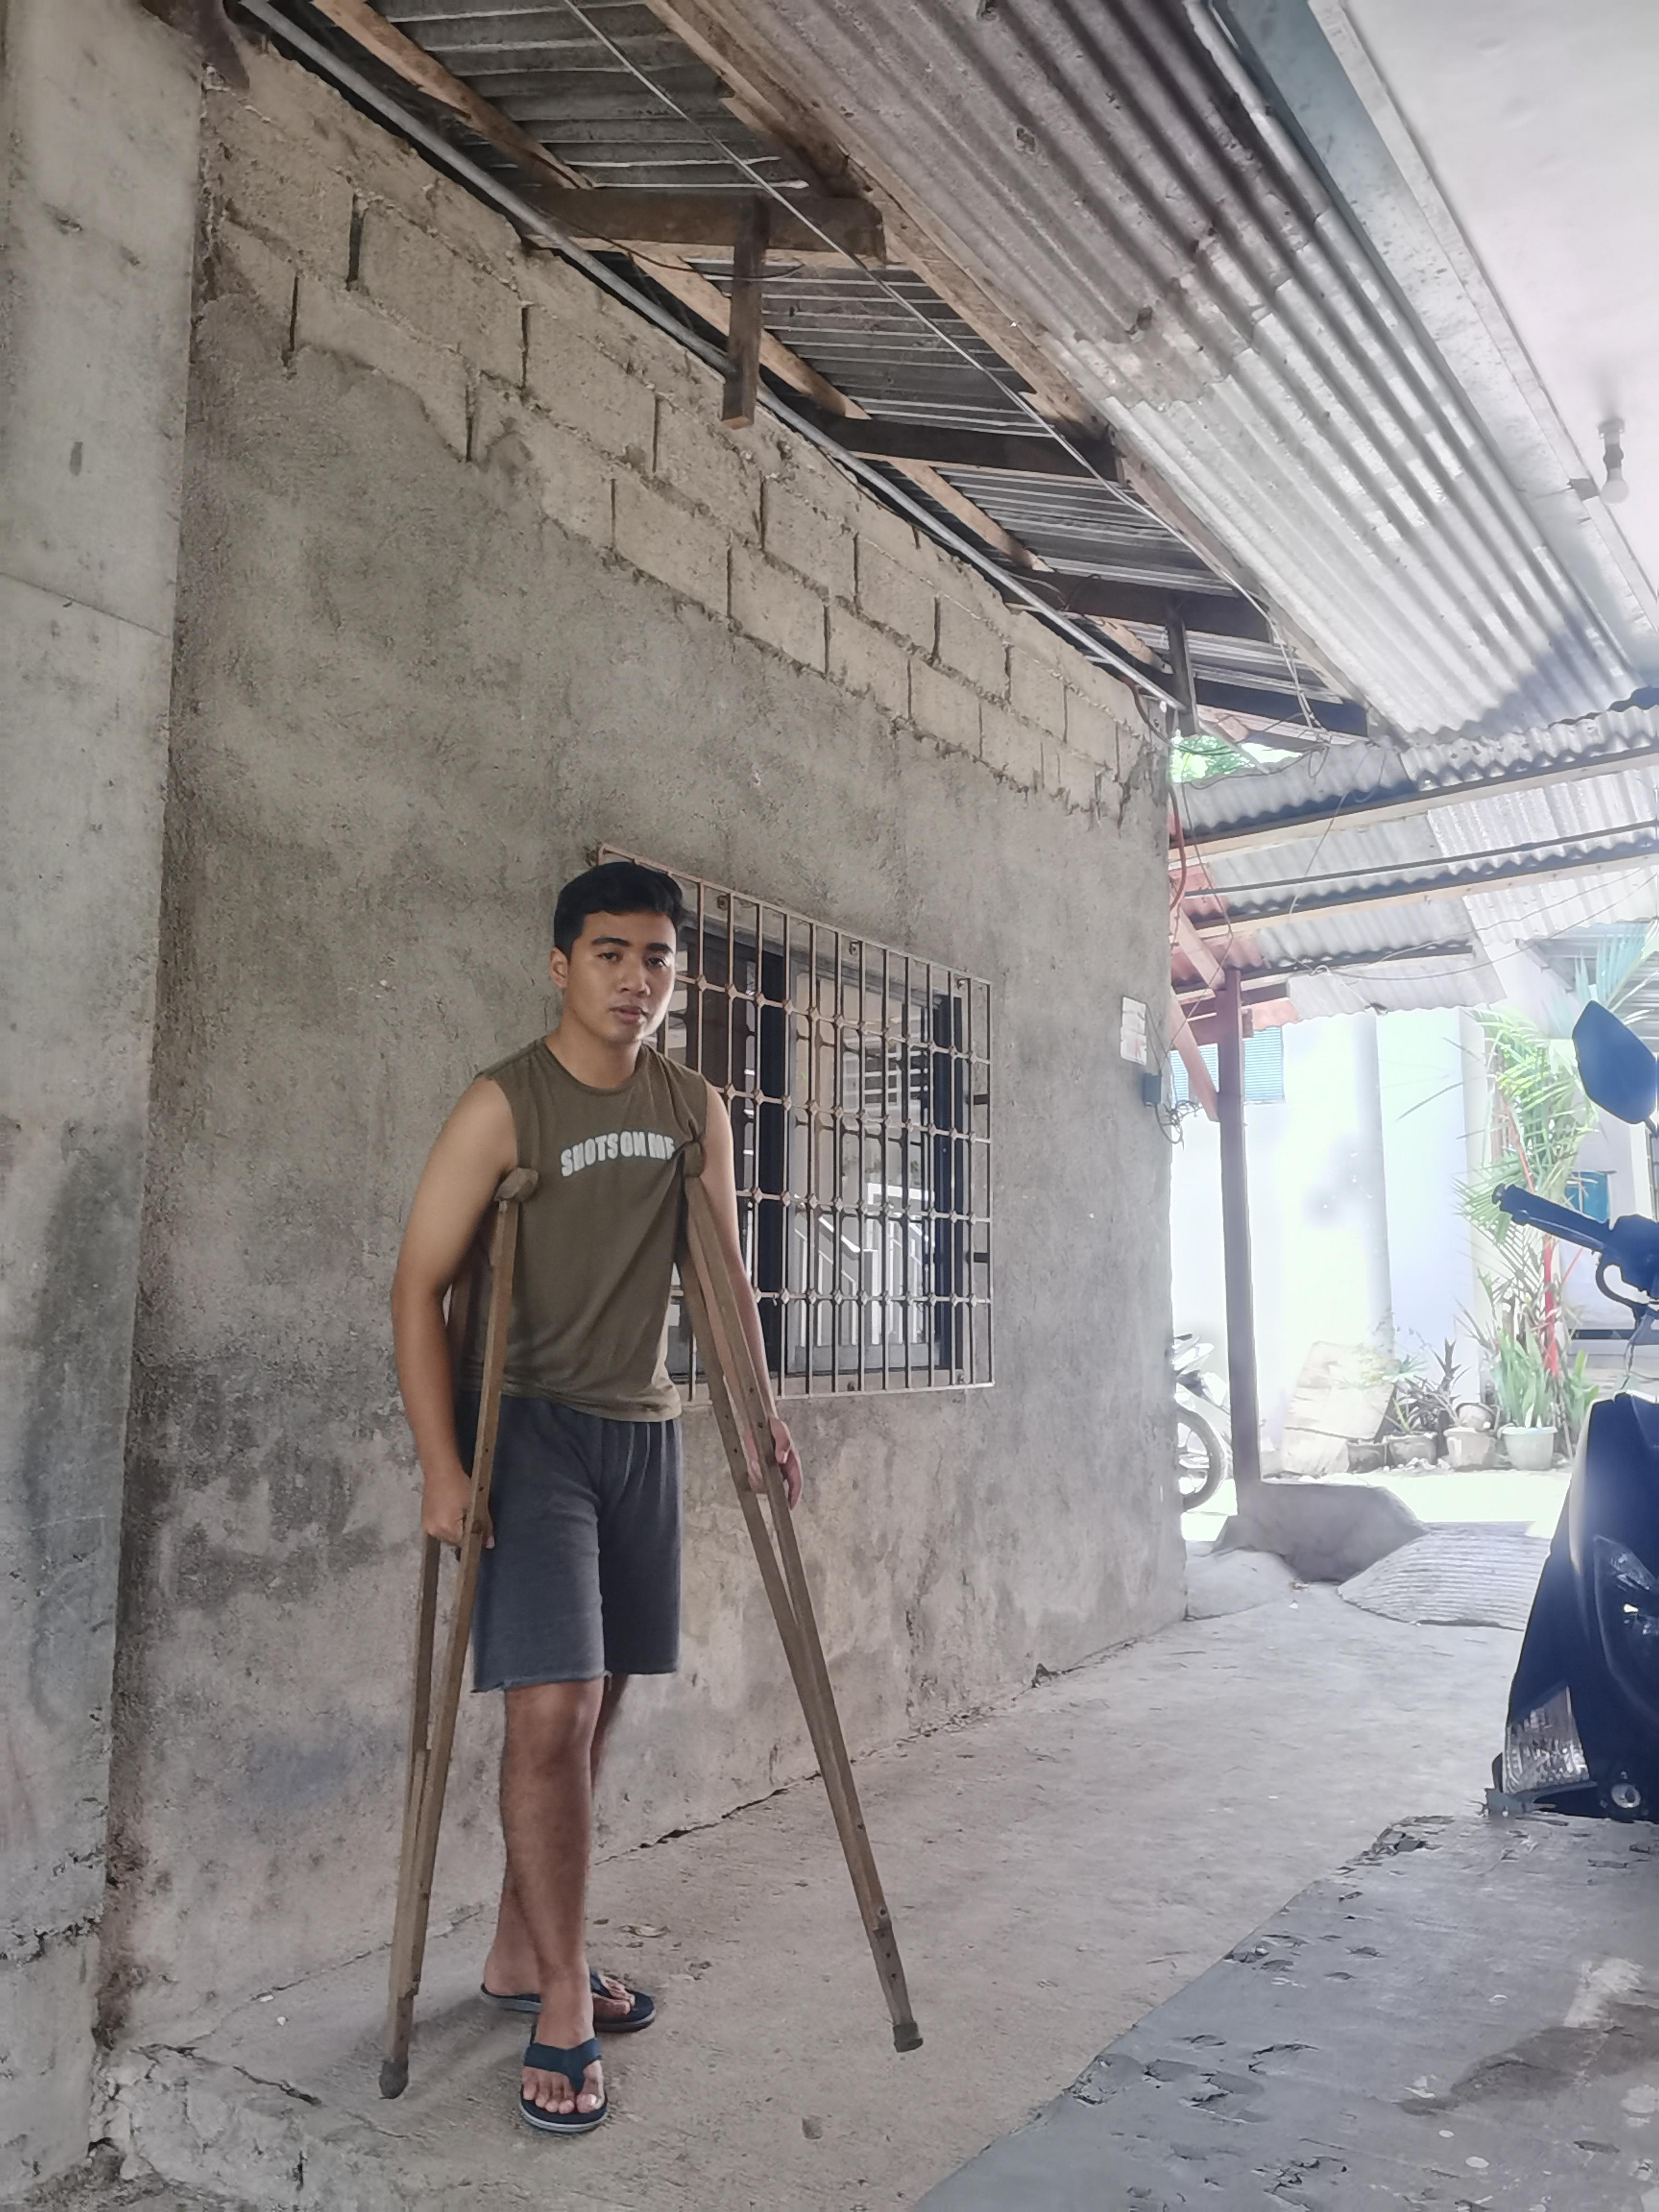crutches: (366, 855, 929, 2151)
